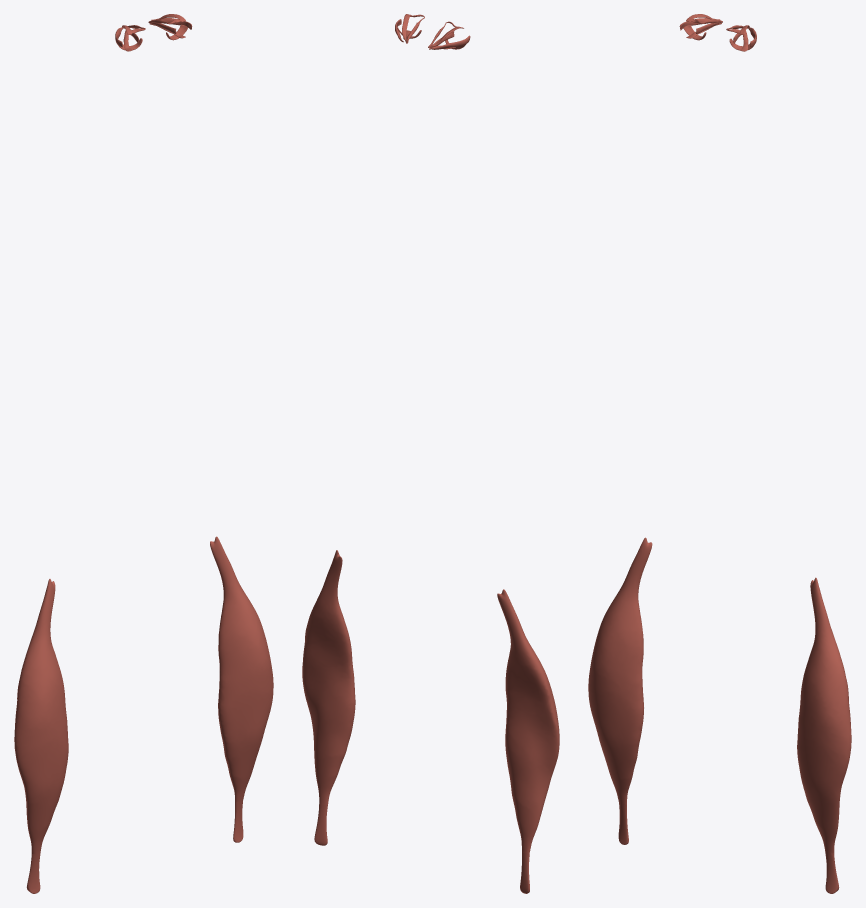
Rendered from muscular.glb.
3 renders of one model, left to right at view 1: azimuth 30°, elevation 25°; view 2: azimuth 150°, elevation 25°; view 3: azimuth 330°, elevation 25°, orthographic. The views are drawn at different scales.
Parts seen in each view (by area): view 1: Left rectus femoris, Right rectus femoris; view 2: Right rectus femoris, Left rectus femoris; view 3: Right rectus femoris, Left rectus femoris.
Part boxes in pixels (left/top/right/bottom): Left rectus femoris: left=210, top=536, right=273, bottom=802; Right rectus femoris: left=14, top=579, right=68, bottom=853; Right rectus femoris: left=497, top=589, right=559, bottom=854; Left rectus femoris: left=302, top=550, right=355, bottom=804; Right rectus femoris: left=588, top=537, right=652, bottom=804; Left rectus femoris: left=797, top=577, right=851, bottom=853.
Size of the model in its own units: 0.358 by 1.13 by 0.0547.
